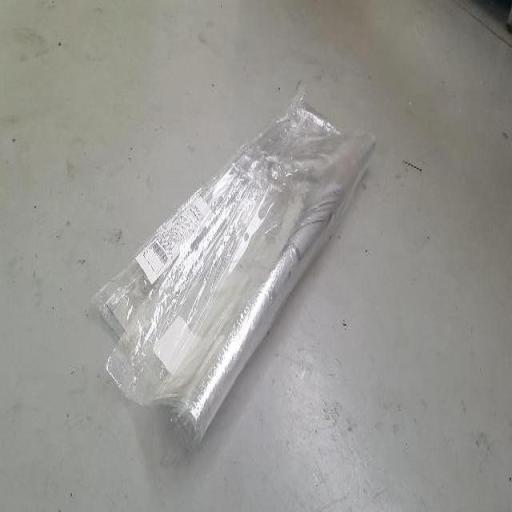plastic-bag: (88, 86, 380, 454)
